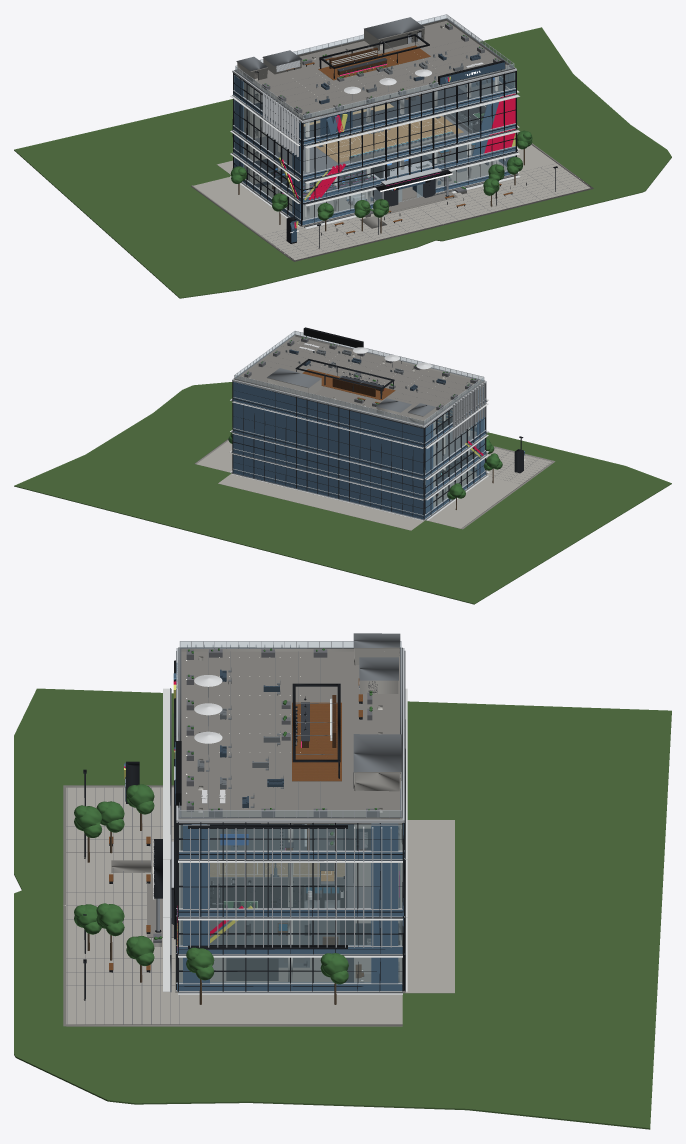
The picture shows the model from 3 angles, top to bottom: view 1: azimuth 30°, elevation 25°; view 2: azimuth 150°, elevation 25°; view 3: azimuth 270°, elevation 25°; orthographic projection. The views are drawn at different scales.
Parts seen in each view (by area): view 1: TeamWas_HQ; view 2: TeamWas_HQ; view 3: TeamWas_HQ.
Boxes of the visible parts, box(x1,y1,x2,y2) form: TeamWas_HQ: box(14, 14, 671, 298); TeamWas_HQ: box(14, 327, 671, 604); TeamWas_HQ: box(14, 633, 671, 1129).
Size of the model in its own units: 139 by 28.9 by 88.02.
54 materials, 5 textured.
